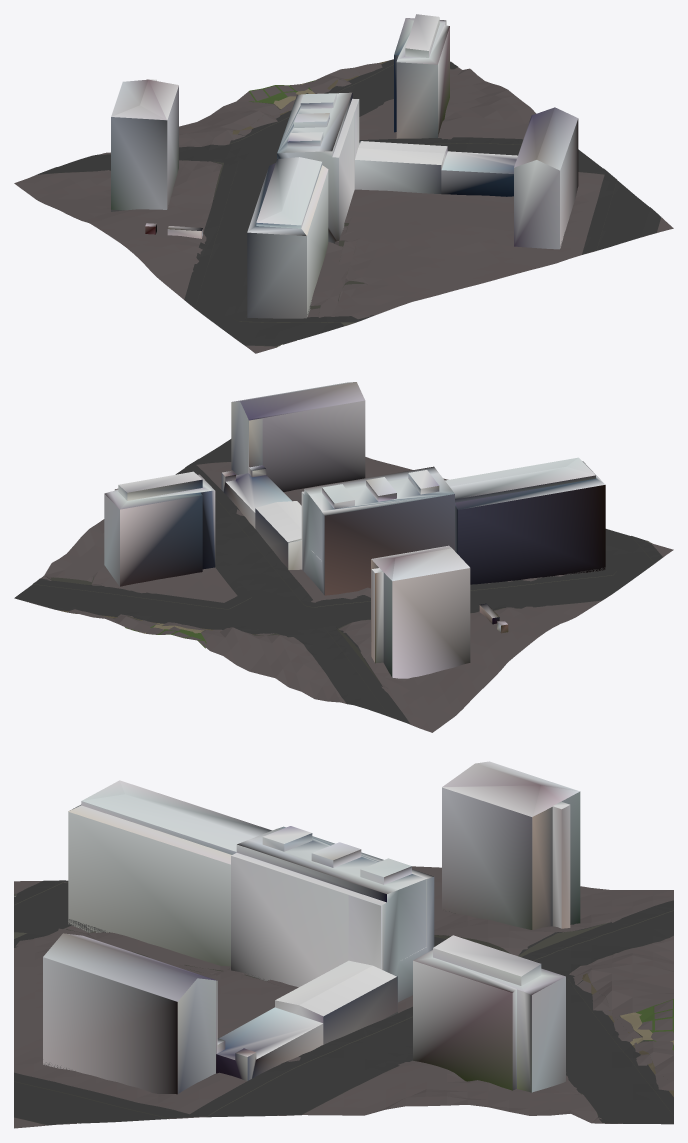
3 views of the same model, one above another, from view 1: azimuth 30°, elevation 25°; view 2: azimuth 150°, elevation 25°; view 3: azimuth 270°, elevation 25° (orthographic). The views are drawn at different scales.
Visible parts, largest first — view 1: c_m05_m14; view 2: c_m05_m14; view 3: c_m05_m14.
Boxes of the visible parts, <box> form: c_m05_m14: <box>14,14,673,353</box>; c_m05_m14: <box>14,382,673,732</box>; c_m05_m14: <box>14,761,673,1128</box>.
Size of the model in its own units: 128 by 34.66 by 128.
